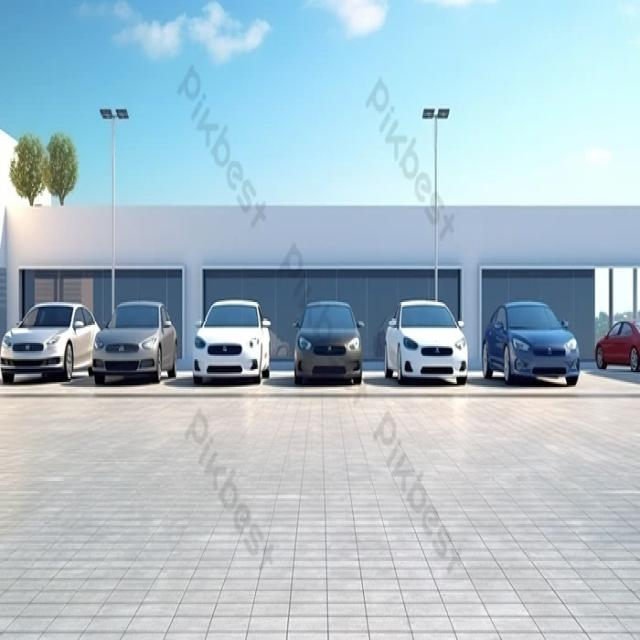ocupado: (4, 268, 584, 390), (591, 318, 640, 383)
